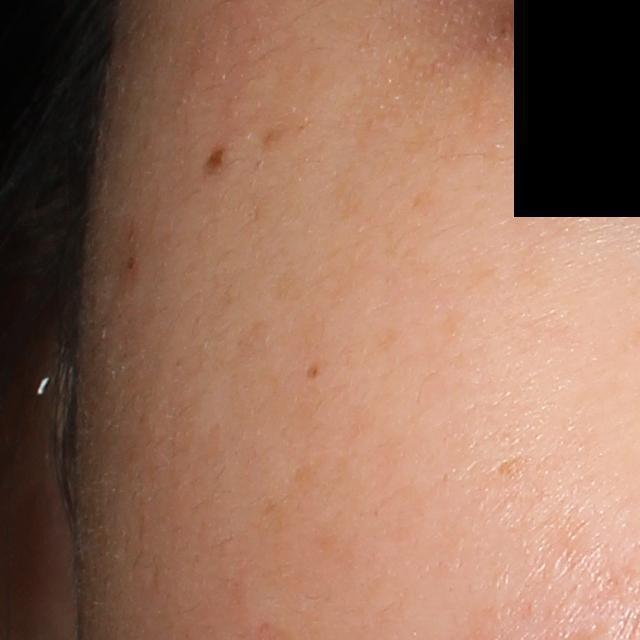nevus: (202, 146, 230, 178)
